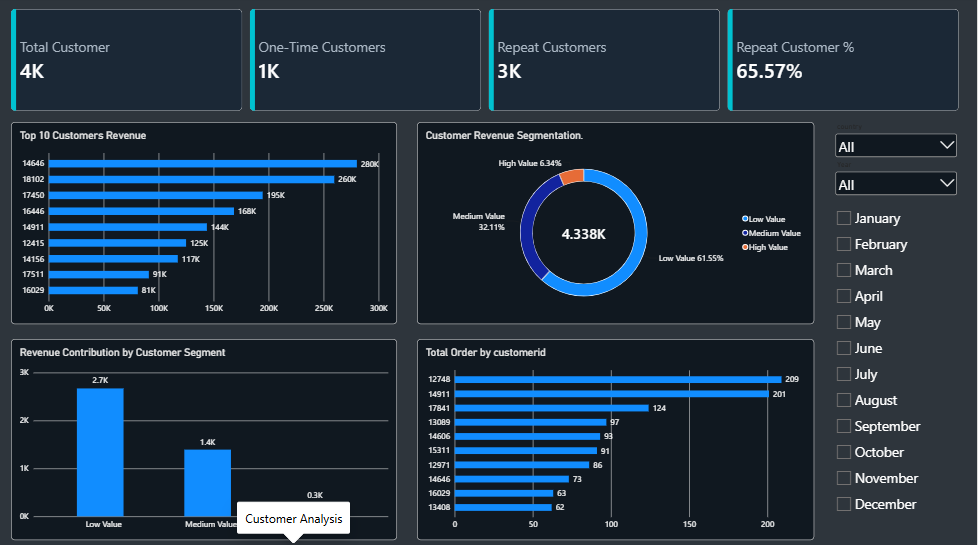

Layout of this report page (visuals, bound fields, positions):
{"tool":"powerbi","page":{"name":"Customer Analysis","canvas":[1920,1080],"ordinal":2},"visuals":[{"type":"cardVisual","fields":{"Data":["public online_retail_sales.Total Customer","public online_retail_sales.One-Time Customers","public online_retail_sales.Repeat Customers","public online_retail_sales.Repeat Customer %"]},"box":[23.8,23.8,1861.9,200.9],"z":0},{"type":"clusteredBarChart","title":"Top 10 Customers Revenue","fields":{"Category":["public online_retail_sales.customerid"],"Y":["public online_retail_sales.Top 10 Customers Revenue"]},"box":[23.8,246.2,758.2,397.4],"z":1000},{"type":"donutChart","title":"Customer Revenue Segmentation.","fields":{"Category":["Customer_Segments_Table.Customer Segment"],"Y":["CountNonNull(Customer_Segments_Table.Customer Revenue)"]},"box":[820.8,246.2,779.8,397.4],"z":2000},{"type":"clusteredColumnChart","title":"Revenue Contribution by Customer Segment","fields":{"Category":["Customer_Segments_Table.Customer Segment"],"Y":["CountNonNull(Customer_Segments_Table.Customer Revenue)"]},"box":[23.8,671.8,758.2,395.3],"z":3000},{"type":"clusteredBarChart","fields":{"Category":["Customer_Segments_Table.customerid"],"Y":["public online_retail_sales.Total Order"]},"box":[820.8,671.8,779.8,395.3],"z":4000},{"type":"slicer","fields":{"Values":["Custom_calender.Year"]},"box":[1637.3,319.7,248.4,175],"z":5000},{"type":"slicer","fields":{"Values":["public online_retail_sales.country"]},"box":[1637.3,246.2,248.4,73.4],"z":6000},{"type":"slicer","fields":{"Values":["Custom_calender.Month"]},"box":[1637.3,408.2,248.4,617.8],"z":7000}]}

Visuals, with their boxes in screenshot pixels (x1, y1, x2, y2), scaled from the page's 1920x1080 canvas onto the 978x545 screenshot:
cardVisual - public online_retail_sales.Total Customer x public online_retail_sales.One-Time Customers: rect(12, 12, 961, 113)
"Top 10 Customers Revenue" clusteredBarChart: rect(12, 124, 398, 325)
"Customer Revenue Segmentation." donutChart: rect(418, 124, 815, 325)
"Revenue Contribution by Customer Segment" clusteredColumnChart: rect(12, 339, 398, 538)
clusteredBarChart - Customer_Segments_Table.customerid x public online_retail_sales.Total Order: rect(418, 339, 815, 538)
slicer - Custom_calender.Year: rect(834, 161, 961, 250)
slicer - public online_retail_sales.country: rect(834, 124, 961, 161)
slicer - Custom_calender.Month: rect(834, 206, 961, 518)
